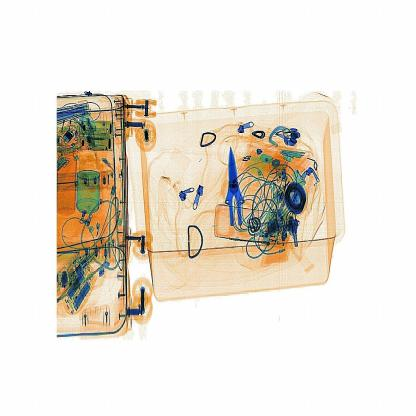gun: (213, 140, 271, 242)
